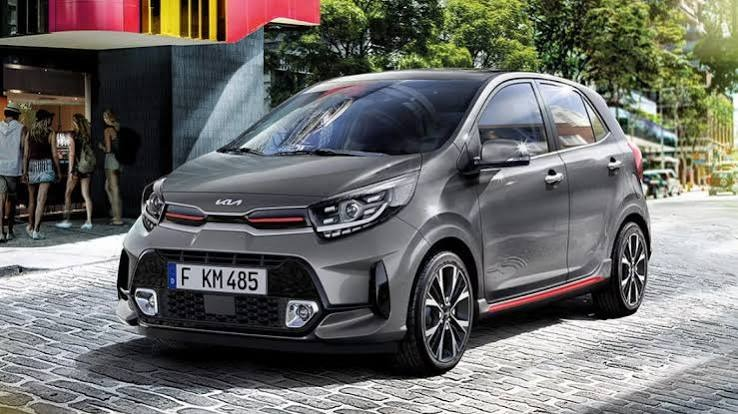car: (105, 69, 668, 370), (112, 64, 646, 358), (186, 67, 684, 267), (616, 105, 680, 196)
